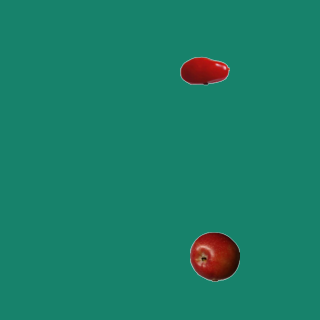Apple Braeburn: (189, 231, 239, 281)
Tomato 2: (179, 45, 229, 95)
